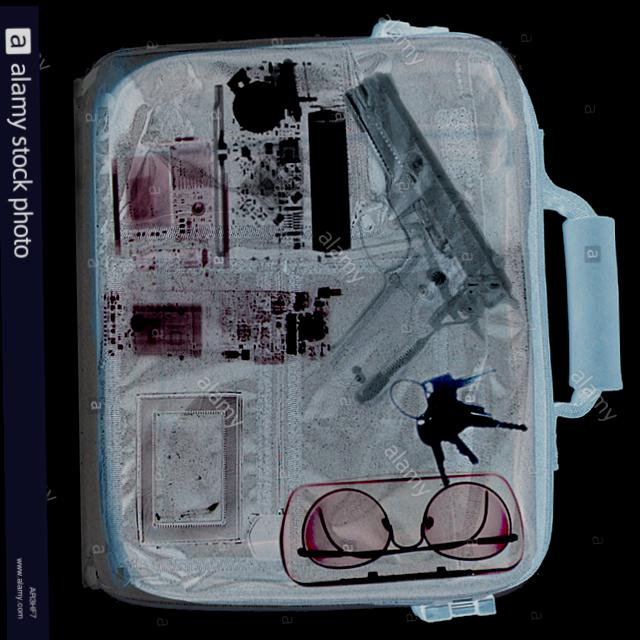handgun: (328, 67, 520, 410)
